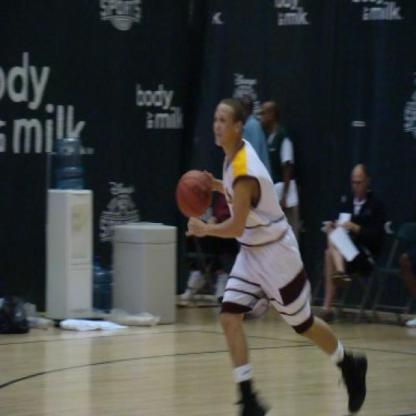basketball: (173, 170, 213, 216)
